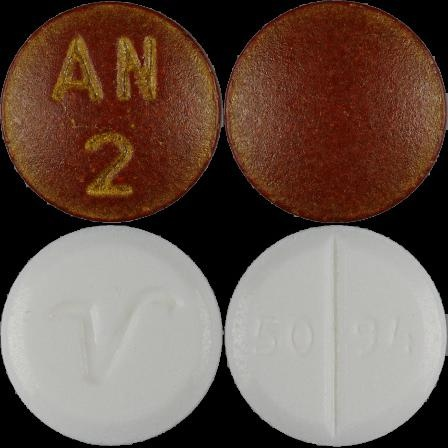66116-484: (0, 0, 224, 224)
